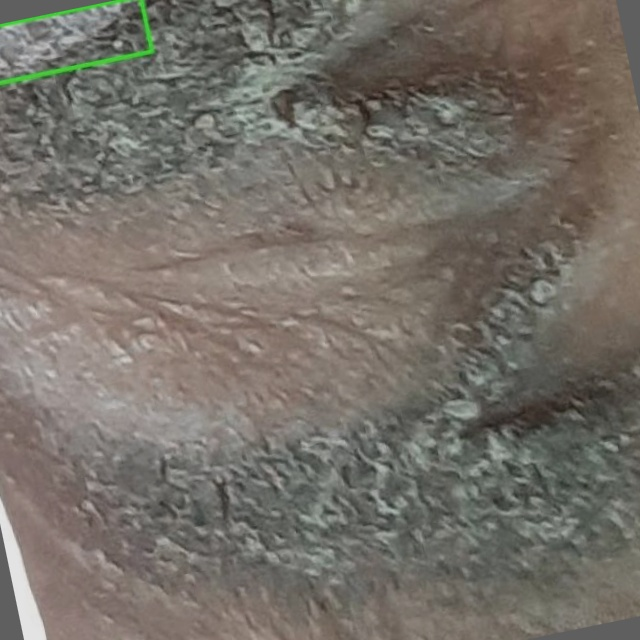Contact Dermatitis: (0, 0, 151, 82)
